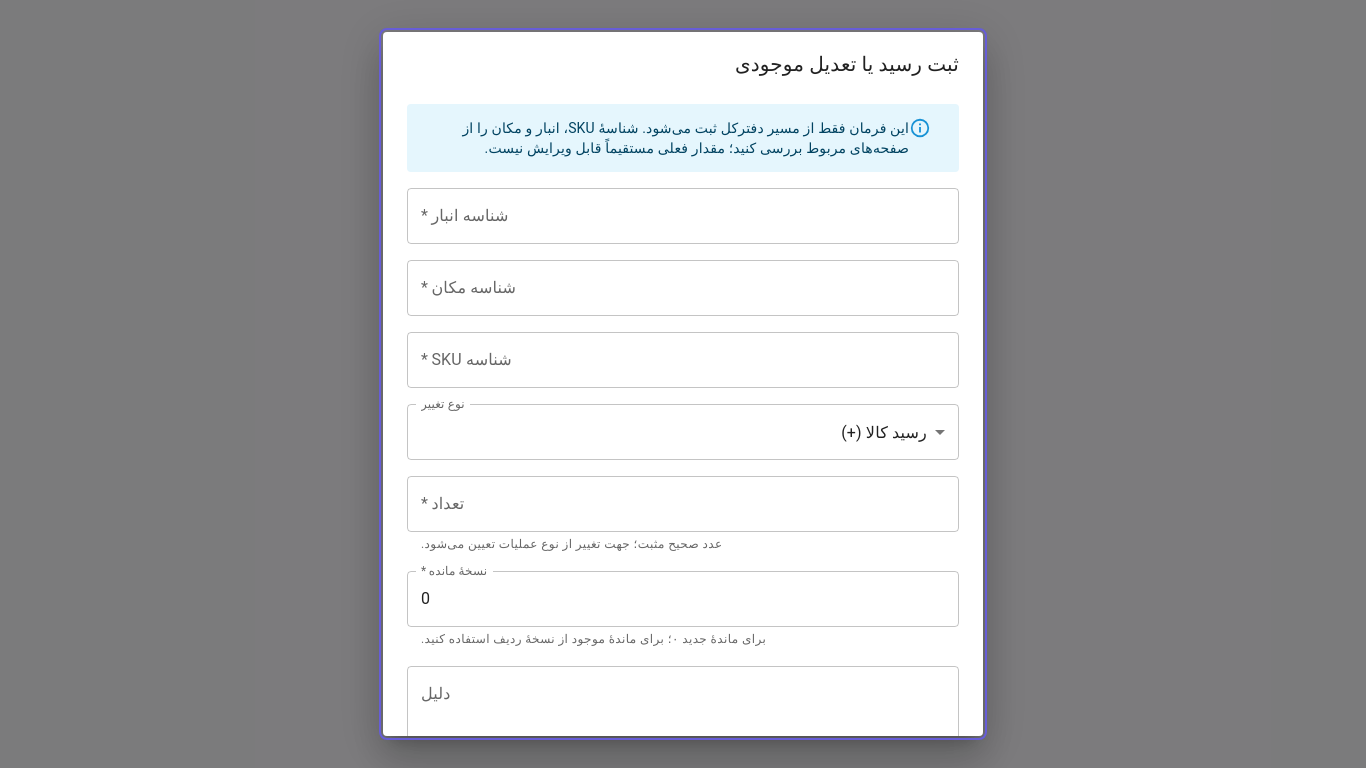
Scenario: StockChangeDialog › shows an explicit version conflict instead of claiming a successful adjustment
Type "wh-1" into the field labelled "شناسه انبار" at (683, 216), box top-left (407, 188), bottom-right (959, 244)
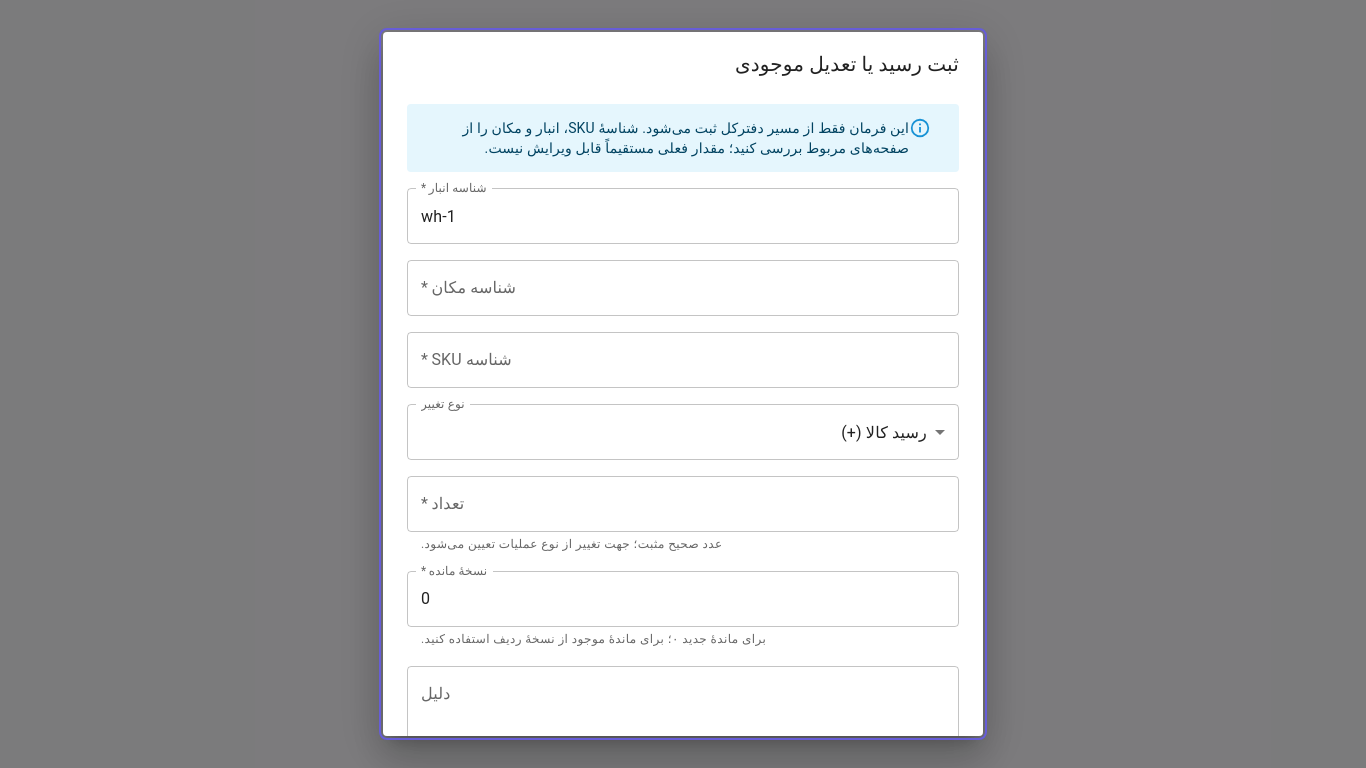
Type "loc-1" into the field labelled "شناسه مکان" at (683, 288), box top-left (407, 260), bottom-right (959, 316)
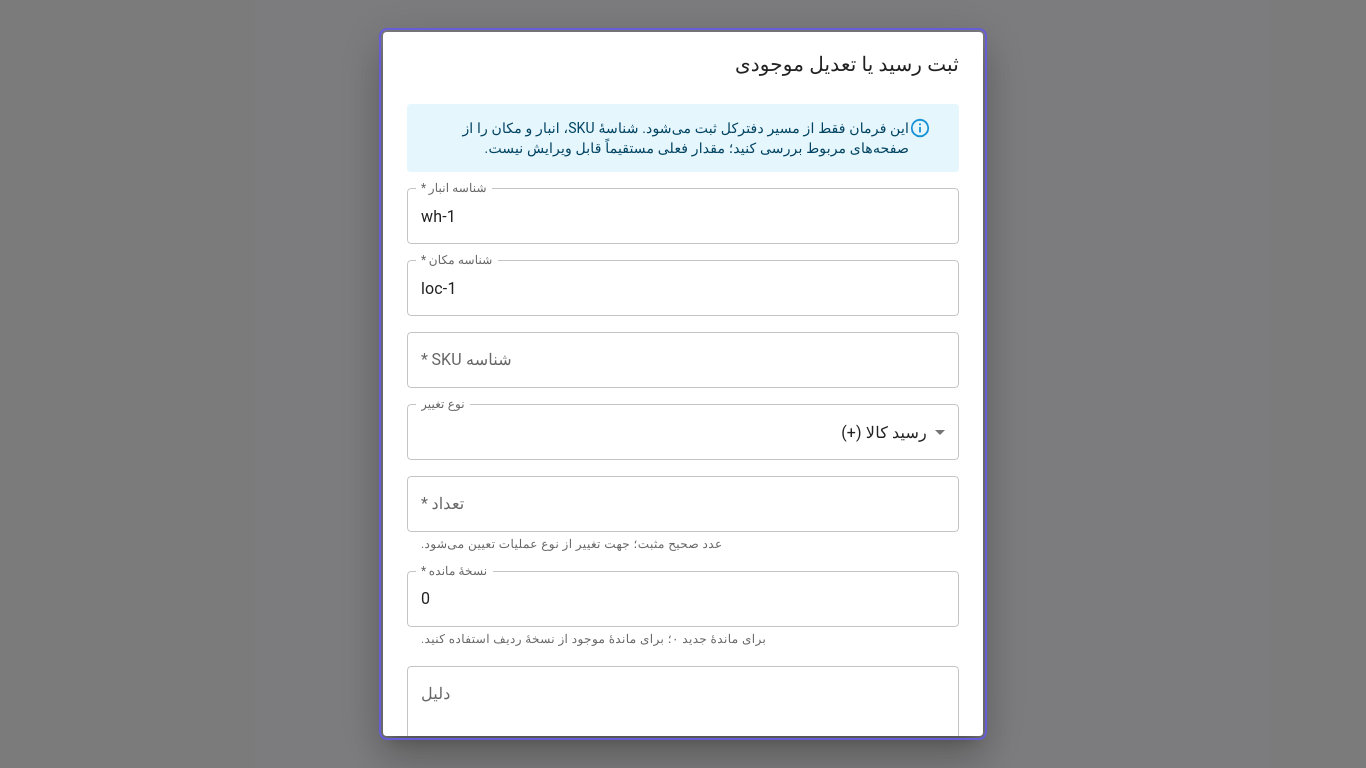
Type "sku-1" into the field labelled "شناسه SKU" at (683, 360), box top-left (407, 332), bottom-right (959, 388)
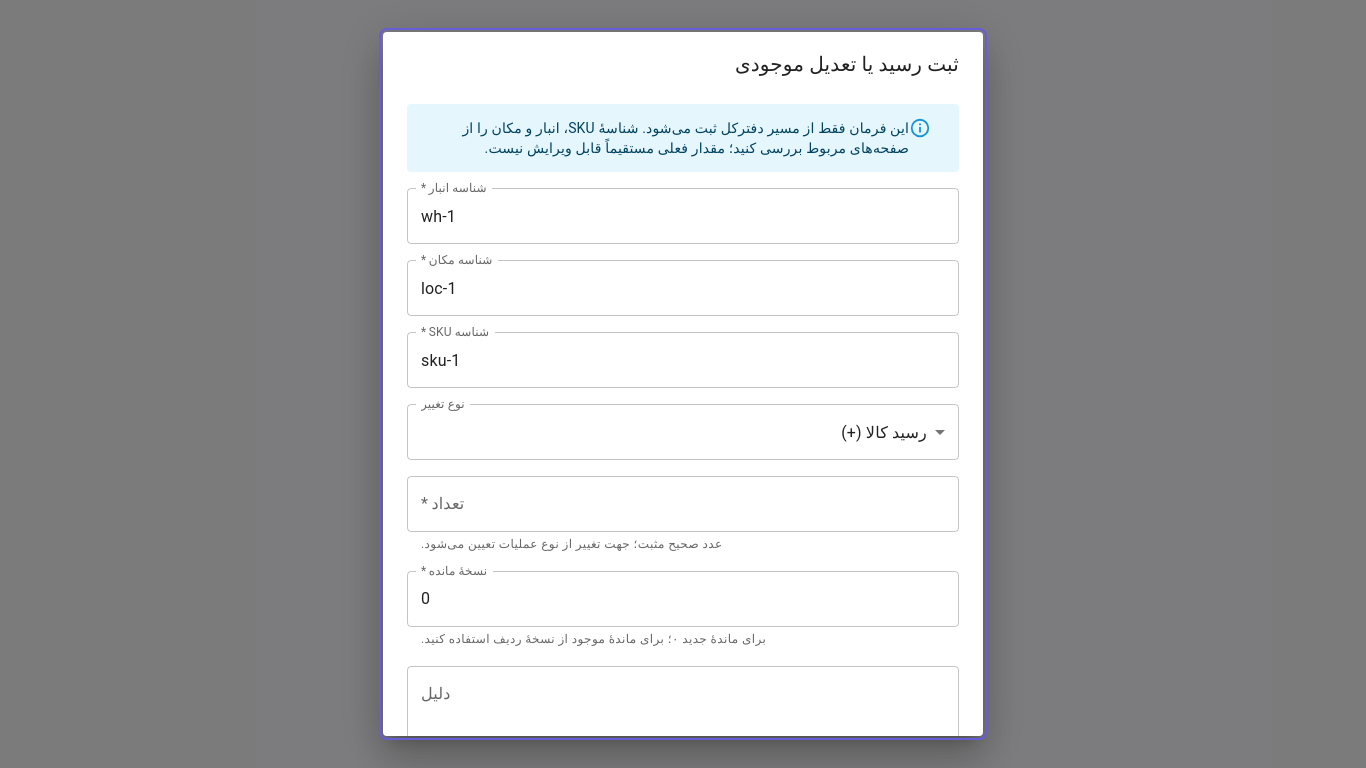
Type "3" into the field labelled "تعداد" at (683, 504), box top-left (407, 476), bottom-right (959, 532)
(page scrolled)
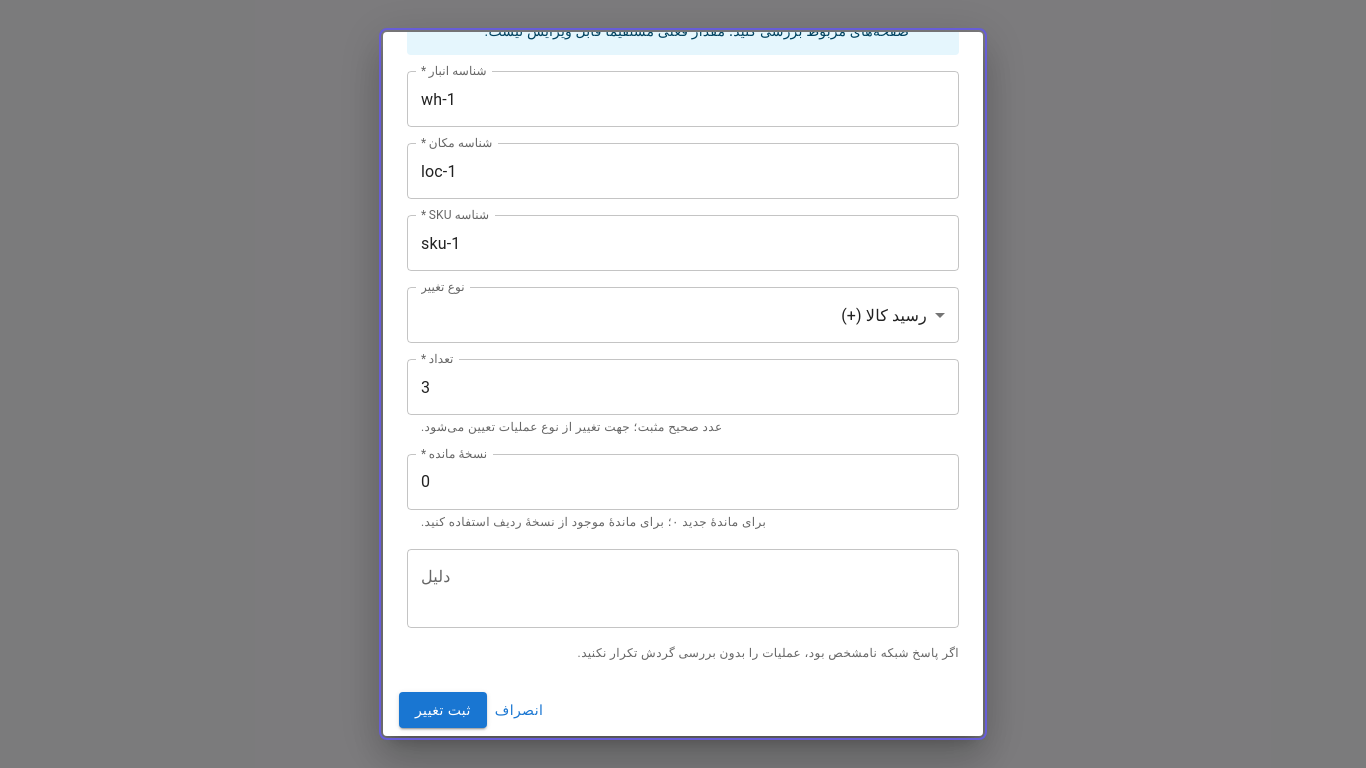
Click the button "ثبت تغییر" at (443, 710), box top-left (399, 692), bottom-right (487, 728)
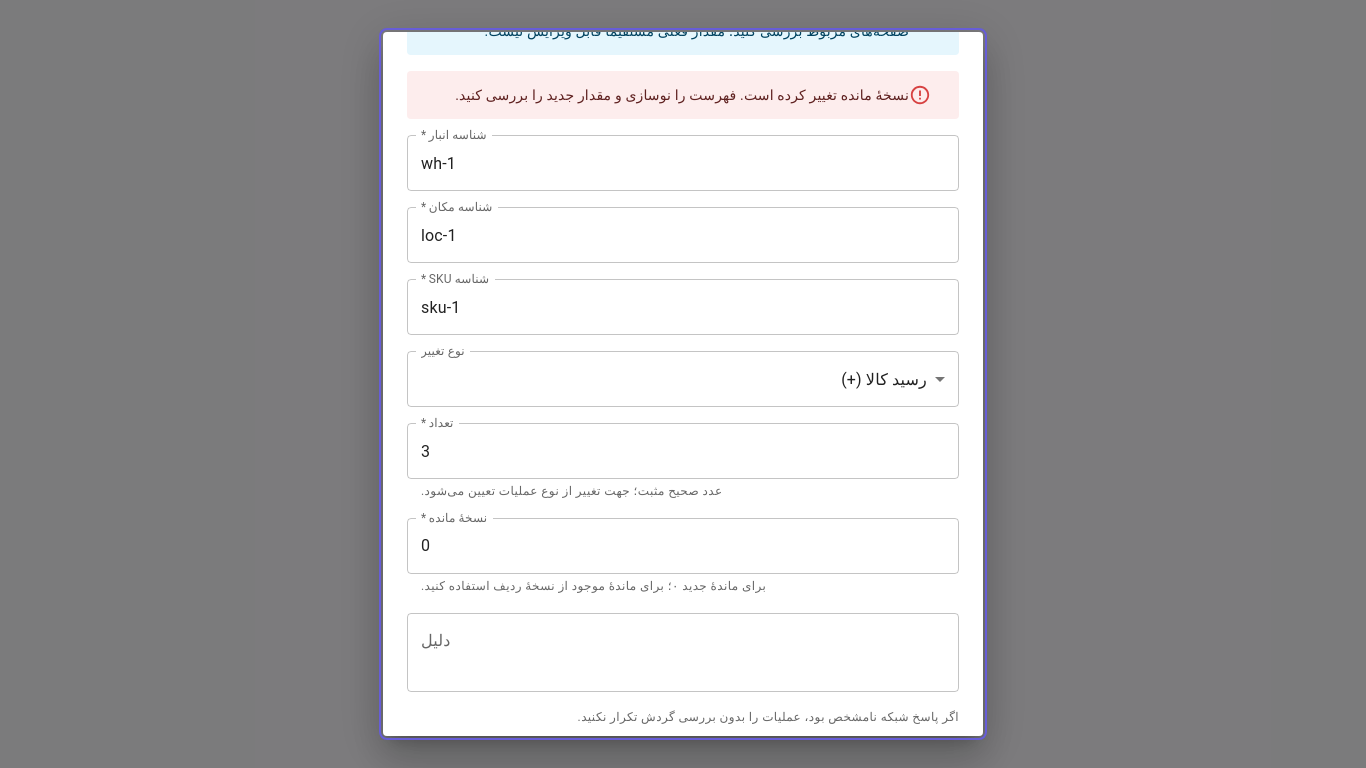
Now the text "نسخهٔ مانده تغییر کرده است" is shown, box top-left (455, 87), bottom-right (909, 103)
